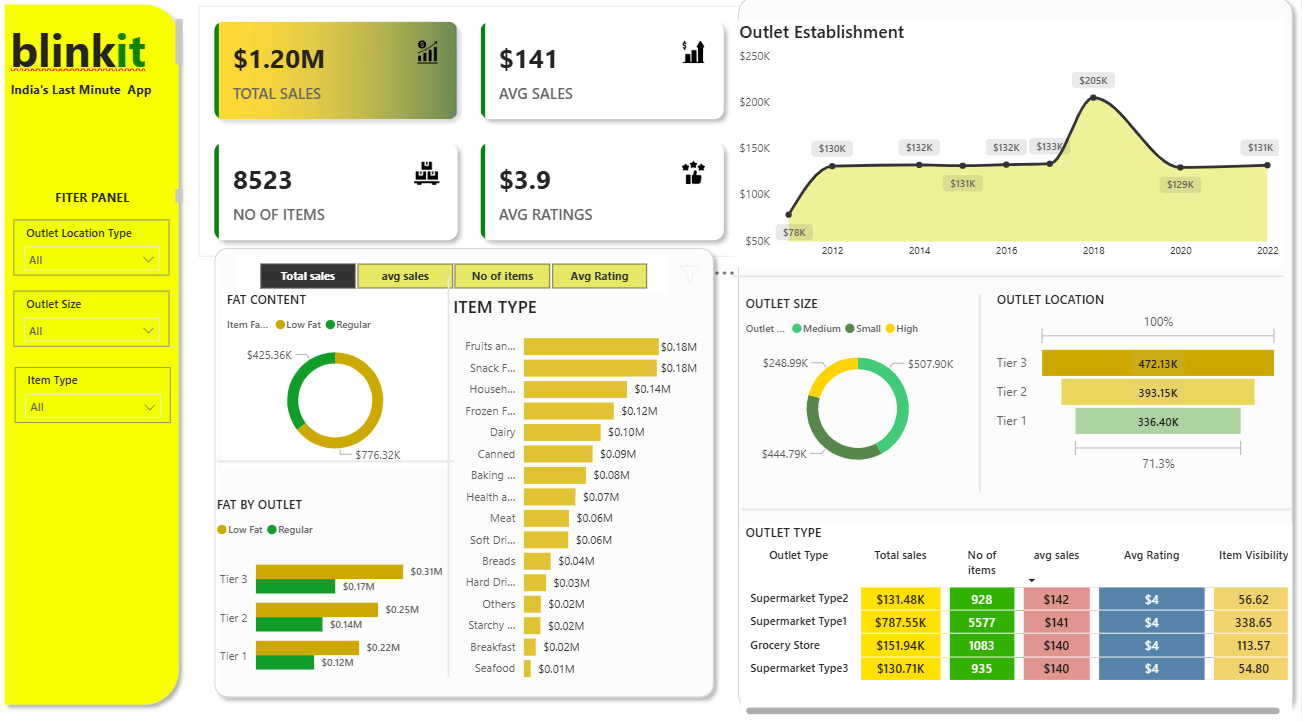

The page's visual inventory and layout, read from the dashboard file:
{"tool":"powerbi","page":{"name":"Page 1","canvas":[1400,800],"ordinal":0},"visuals":[{"type":"shape","box":[0,14.7,205.1,769.4],"z":0},{"type":"textbox","box":[10.7,34.9,194.4,65.7],"z":1000},{"type":"textbox","box":[10.7,100.5,176.9,28.2],"z":2000},{"type":"cardVisual","fields":{"Data":["BlinkIT Grocery Data.Total sales","BlinkIT Grocery Data.avg sales","BlinkIT Grocery Data.No of items","BlinkIT Grocery Data.Avg Rating"]},"box":[217.2,25.5,581.8,269.4],"z":3000},{"type":"shape","box":[225.2,276.1,553.6,500],"z":4000},{"type":"donutChart","title":"FAT CONTENT","fields":{"Y":["BlinkIT Grocery Data.Total sales"],"Category":["BlinkIT Grocery Data.Item Fat Content"]},"box":[242.6,331.1,242.6,190.3],"z":6000},{"type":"slicer","fields":{"Values":["Matrix.Matrix"]},"box":[257.4,294.9,465.1,40.2],"z":7000},{"type":"clusteredBarChart","title":"FAT BY OUTLET","fields":{"Y":["BlinkIT Grocery Data.Total sales"],"Category":["BlinkIT Grocery Data.Outlet Location Type"],"Series":["BlinkIT Grocery Data.Item Fat Content"]},"box":[231.9,550.9,253.4,209.1],"z":8000},{"type":"shape","box":[811,730.6,202.4,14.7],"z":9000},{"type":"shape","box":[237.3,506.7,253.4,14.7],"z":10000},{"type":"shape","box":[469.2,315,32.2,430.3],"z":11000},{"type":"barChart","title":"ITEM TYPE","fields":{"Y":["BlinkIT Grocery Data.Total sales"],"Category":["BlinkIT Grocery Data.Item Type"]},"box":[485.3,335.1,272.1,424.9],"z":12000},{"type":"shape","box":[786.9,6.7,612.6,784.2],"z":13000},{"type":"lineChart","title":" Outlet Establishment ","fields":{"Y":["BlinkIT Grocery Data.Total sales"],"Category":["BlinkIT Grocery Data.Outlet Establishment Year"]},"box":[792.2,40.2,588.5,265.4],"z":14000},{"type":"shape","box":[790.9,305.6,589.8,20.1],"z":15000},{"type":"donutChart","title":"OUTLET SIZE","fields":{"Y":["BlinkIT Grocery Data.Total sales"],"Category":["BlinkIT Grocery Data.Outlet Size"]},"box":[798.9,335.1,250.7,199.7],"z":16000},{"type":"shape","box":[1042.9,335.1,24.1,213.1],"z":17000},{"type":"funnel","title":"OUTLET LOCATION","fields":{"Y":["Sum(BlinkIT Grocery Data.Sales)"],"Category":["BlinkIT Grocery Data.Outlet Location Type"]},"box":[1068.4,331.1,312.3,199.7],"z":17001},{"type":"shape","box":[798.9,560.3,589.8,10.7],"z":17002},{"type":"pivotTable","title":"OUTLET TYPE","fields":{"Rows":["BlinkIT Grocery Data.Outlet Type"],"Values":["BlinkIT Grocery Data.Total sales","BlinkIT Grocery Data.No of items","BlinkIT Grocery Data.avg sales","BlinkIT Grocery Data.Avg Rating","Sum(BlinkIT Grocery Data.Item Visibility)"]},"box":[798.9,580.4,591.2,210.5],"z":17003},{"type":"slicer","fields":{"Values":["BlinkIT Grocery Data.Outlet Location Type"]},"box":[18.8,254.7,167.6,60.3],"z":17004},{"type":"slicer","fields":{"Values":["BlinkIT Grocery Data.Outlet Size"]},"box":[18.8,331.1,167.6,60.3],"z":17005},{"type":"slicer","fields":{"Values":["BlinkIT Grocery Data.Item Type"]},"box":[20.1,412.9,167.6,60.3],"z":17006},{"type":"textbox","box":[10.7,217.2,194.4,24.1],"z":17007}]}

Visuals, with their boxes on the page's 1400x800 design canvas (x1, y1, x2, y2). These are canvas units, not pixel positions in the 1302x722 screenshot, which may show the page scaled, cropped or inside an application window:
shape: [0, 15, 205, 784]
textbox: [11, 35, 205, 101]
textbox: [11, 100, 188, 129]
cardVisual - BlinkIT Grocery Data.Total sales x BlinkIT Grocery Data.avg sales: [217, 26, 799, 295]
shape: [225, 276, 779, 776]
"FAT CONTENT" donutChart: [243, 331, 485, 521]
slicer - Matrix.Matrix: [257, 295, 722, 335]
"FAT BY OUTLET" clusteredBarChart: [232, 551, 485, 760]
shape: [811, 731, 1013, 745]
shape: [237, 507, 491, 521]
shape: [469, 315, 501, 745]
"ITEM TYPE" barChart: [485, 335, 757, 760]
shape: [787, 7, 1400, 791]
" Outlet Establishment " lineChart: [792, 40, 1381, 306]
shape: [791, 306, 1381, 326]
"OUTLET SIZE" donutChart: [799, 335, 1050, 535]
shape: [1043, 335, 1067, 548]
"OUTLET LOCATION" funnel: [1068, 331, 1381, 531]
shape: [799, 560, 1389, 571]
"OUTLET TYPE" pivotTable: [799, 580, 1390, 791]
slicer - BlinkIT Grocery Data.Outlet Location Type: [19, 255, 186, 315]
slicer - BlinkIT Grocery Data.Outlet Size: [19, 331, 186, 391]
slicer - BlinkIT Grocery Data.Item Type: [20, 413, 188, 473]
textbox: [11, 217, 205, 241]
